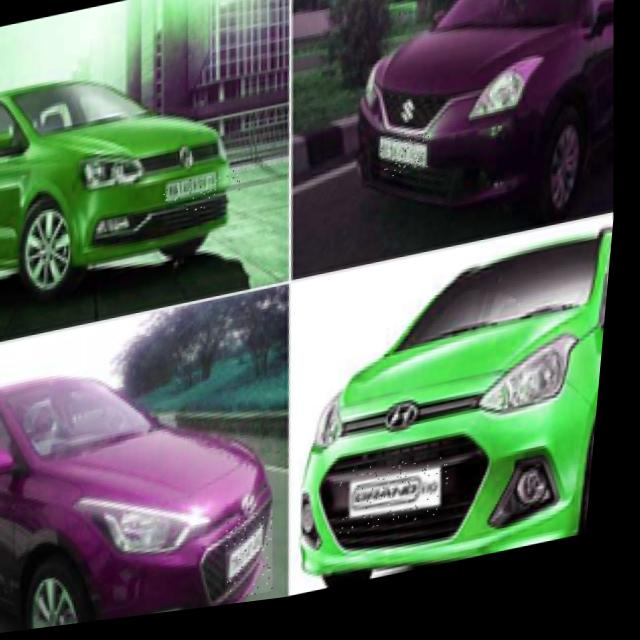license_plate: (345, 461, 463, 547), (230, 516, 290, 608), (165, 171, 249, 224), (381, 138, 438, 189)
